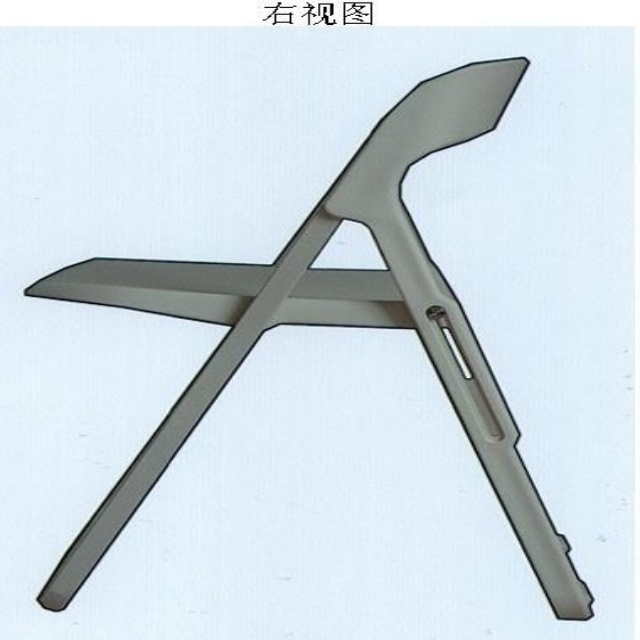obstacle: (25, 57, 591, 618)
